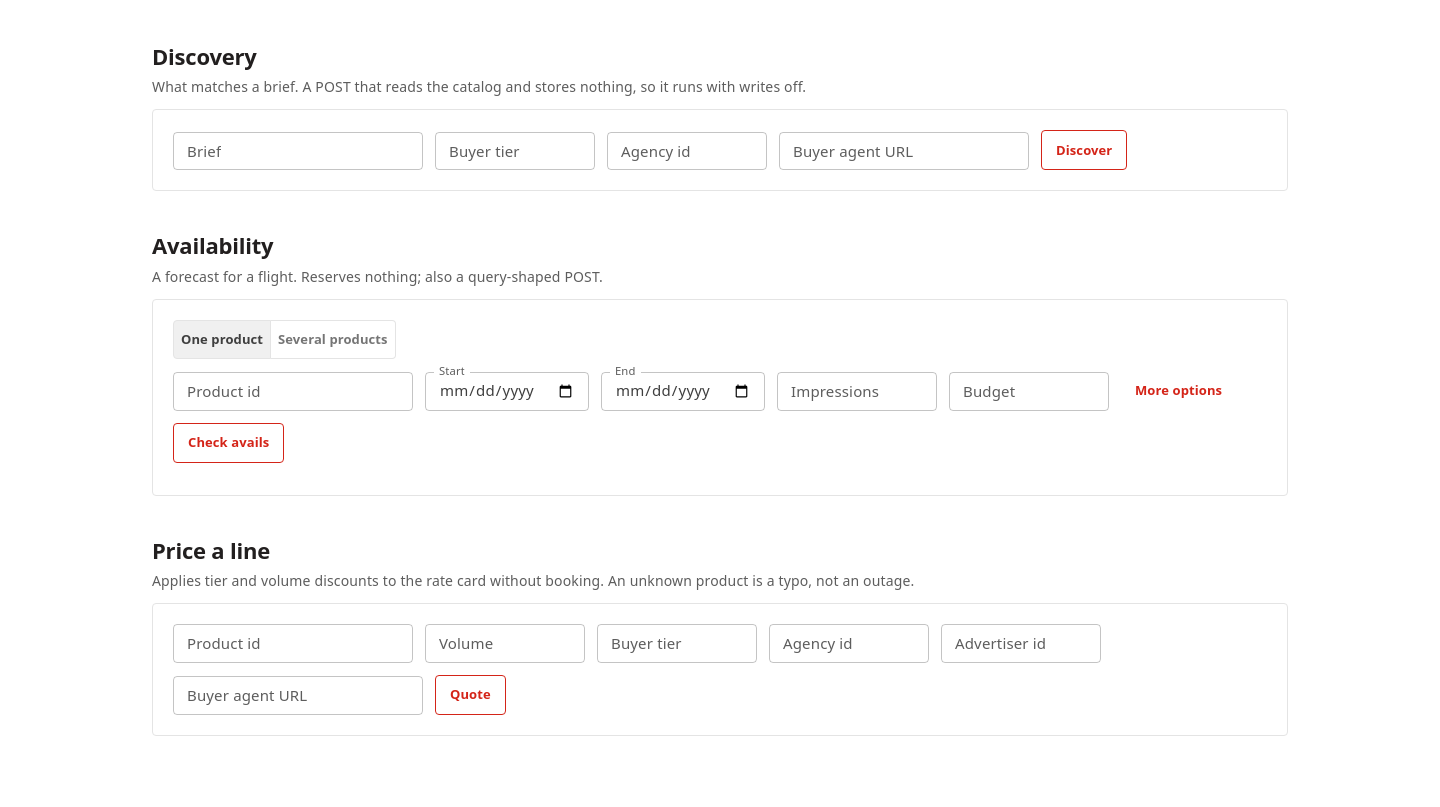
the catalog screen › quotes a product and shows the agent's rationale verbatim
(page scrolled)
In the dropdown labelled "Product id" in the row of "Advertiser id": (292, 643) [179,630,404,657], type "prod-console-demo-1"
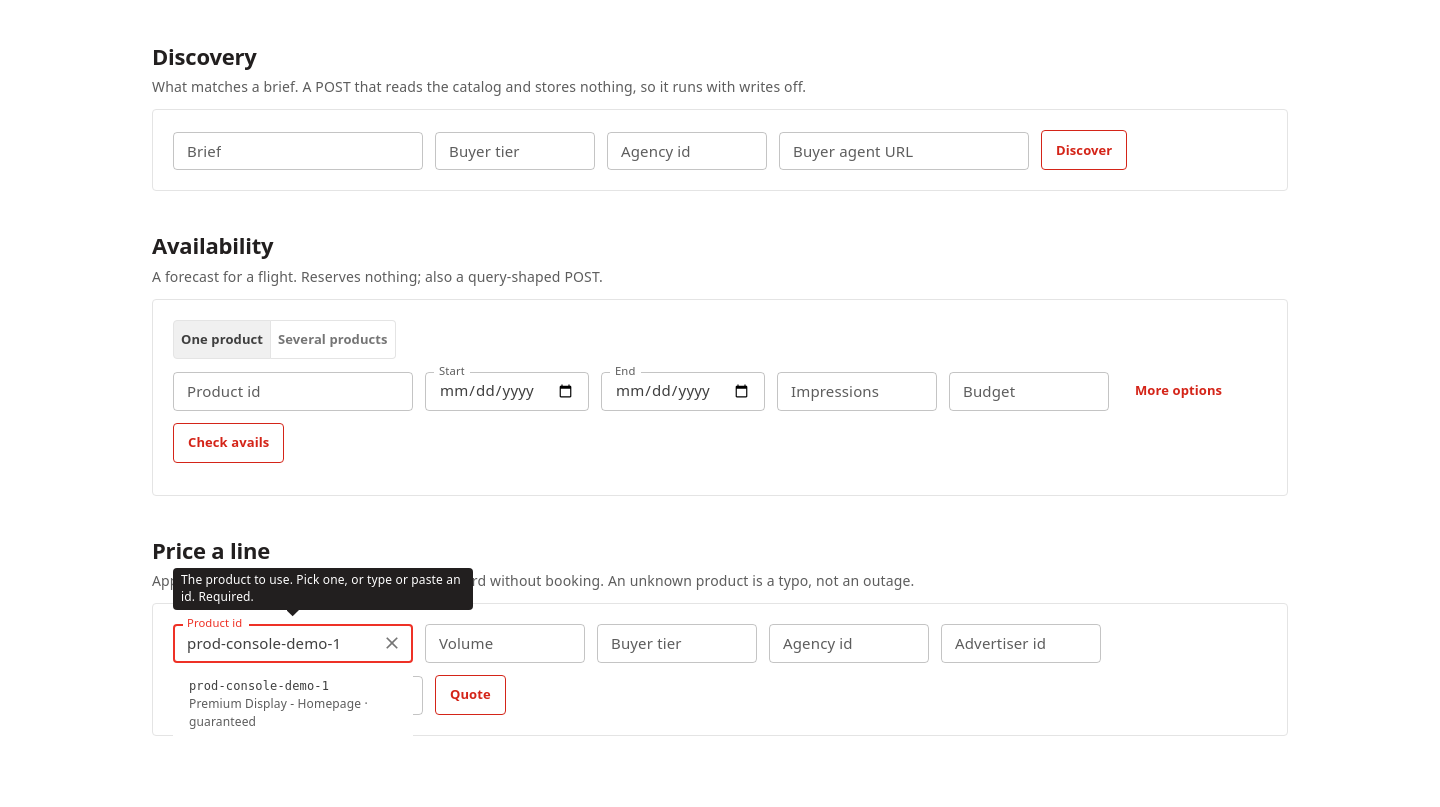
Click the button "Quote": (470, 695) [435,675,506,715]
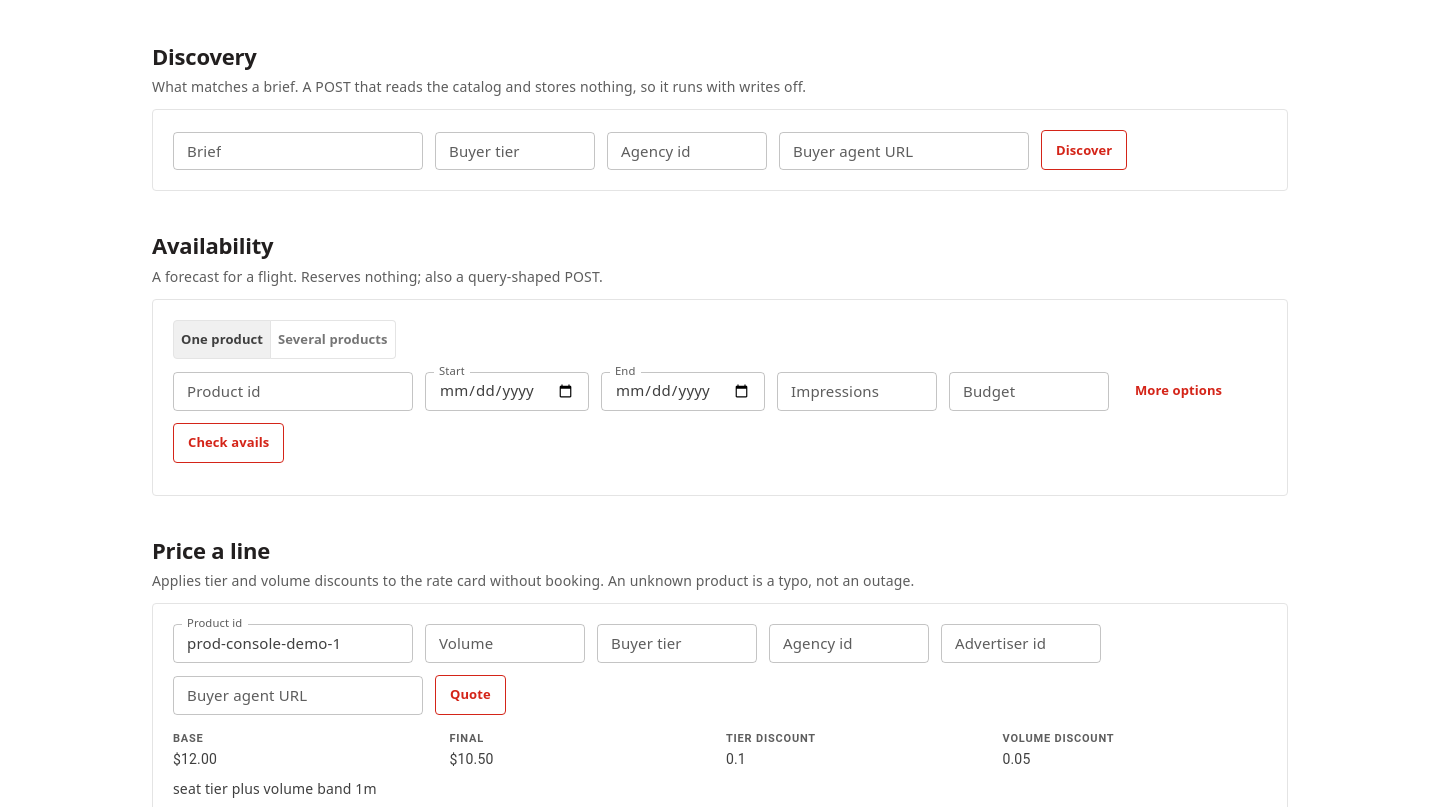
Result: the text "seat tier plus volume band 1m" is shown at [173,779,377,798]
